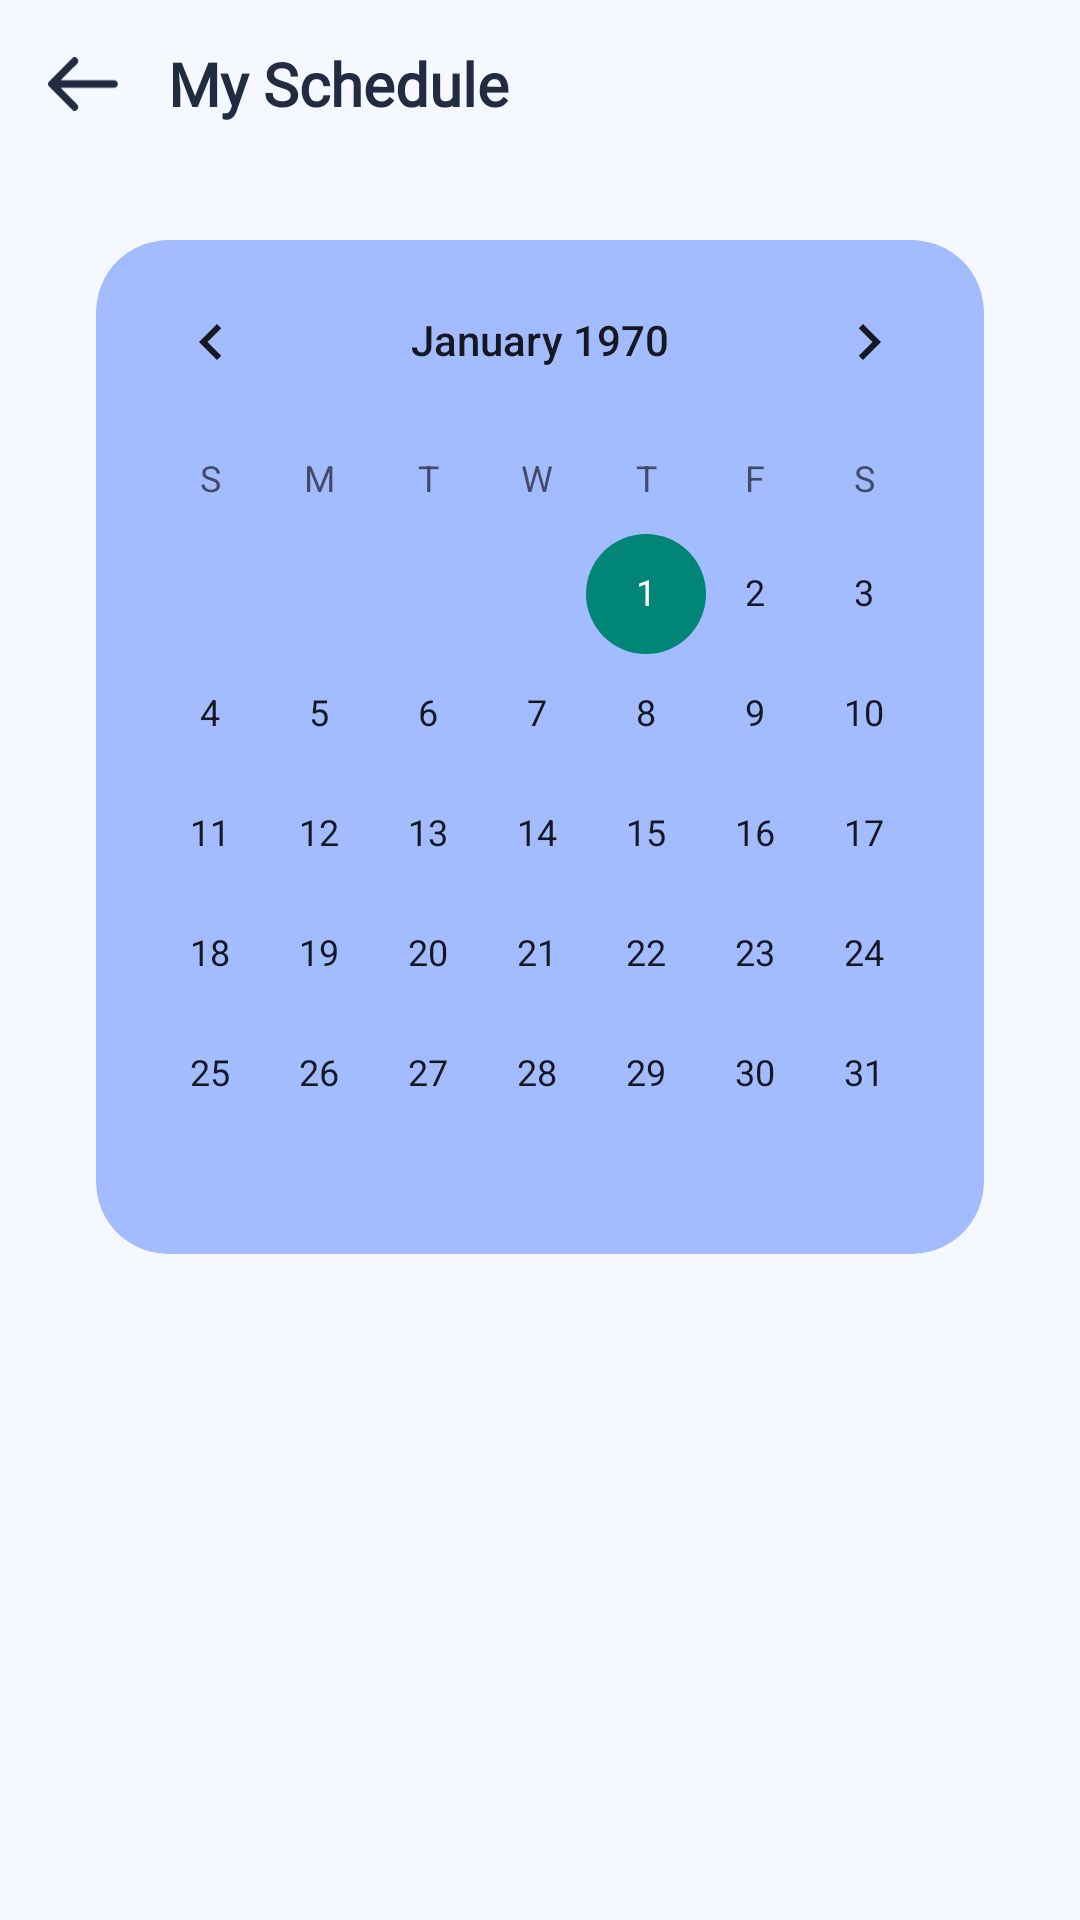

Icons on this 1080w x 1920h Android screen, each with its box as (x1, y1, x2, y2):
Back: (48, 57, 118, 111)
